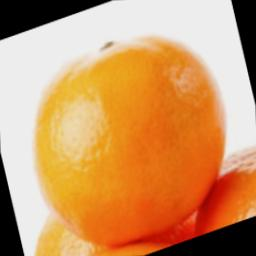Orange Ripe: (12, 20, 244, 244)
